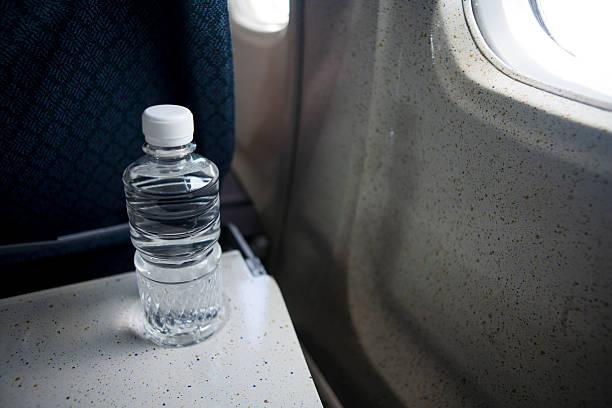bottle: (113, 98, 238, 354)
